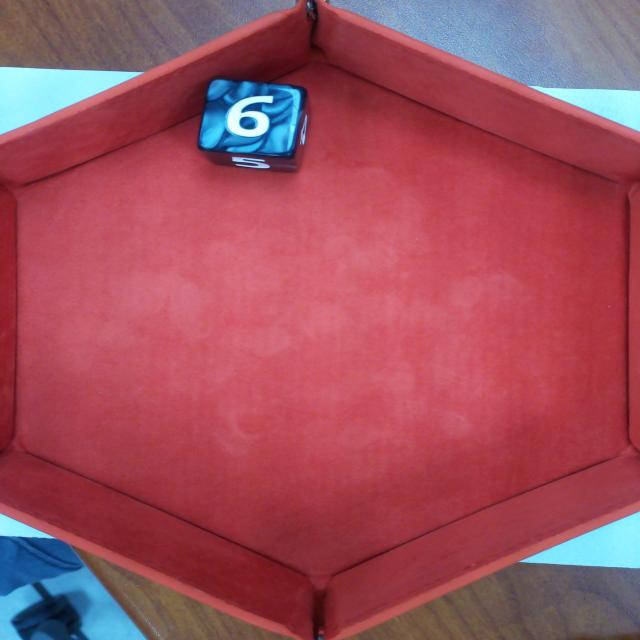dice: (194, 76, 310, 161)
